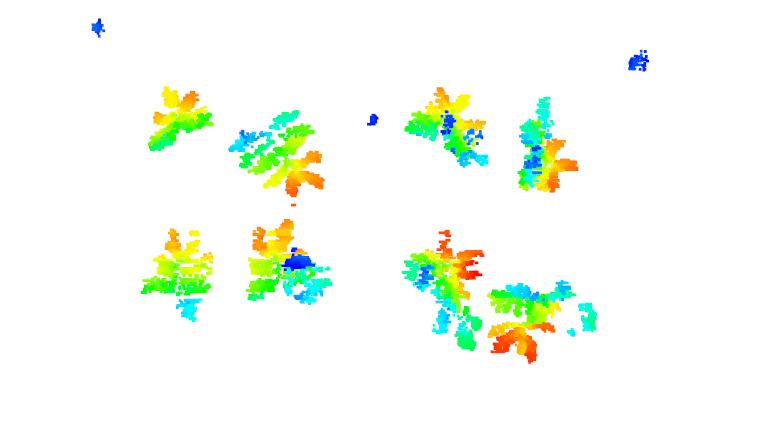chickpea: (402, 228, 487, 352), (241, 215, 342, 310), (489, 278, 600, 363), (228, 108, 327, 198), (399, 85, 492, 171), (138, 225, 215, 325), (515, 95, 580, 198), (145, 84, 212, 153)
